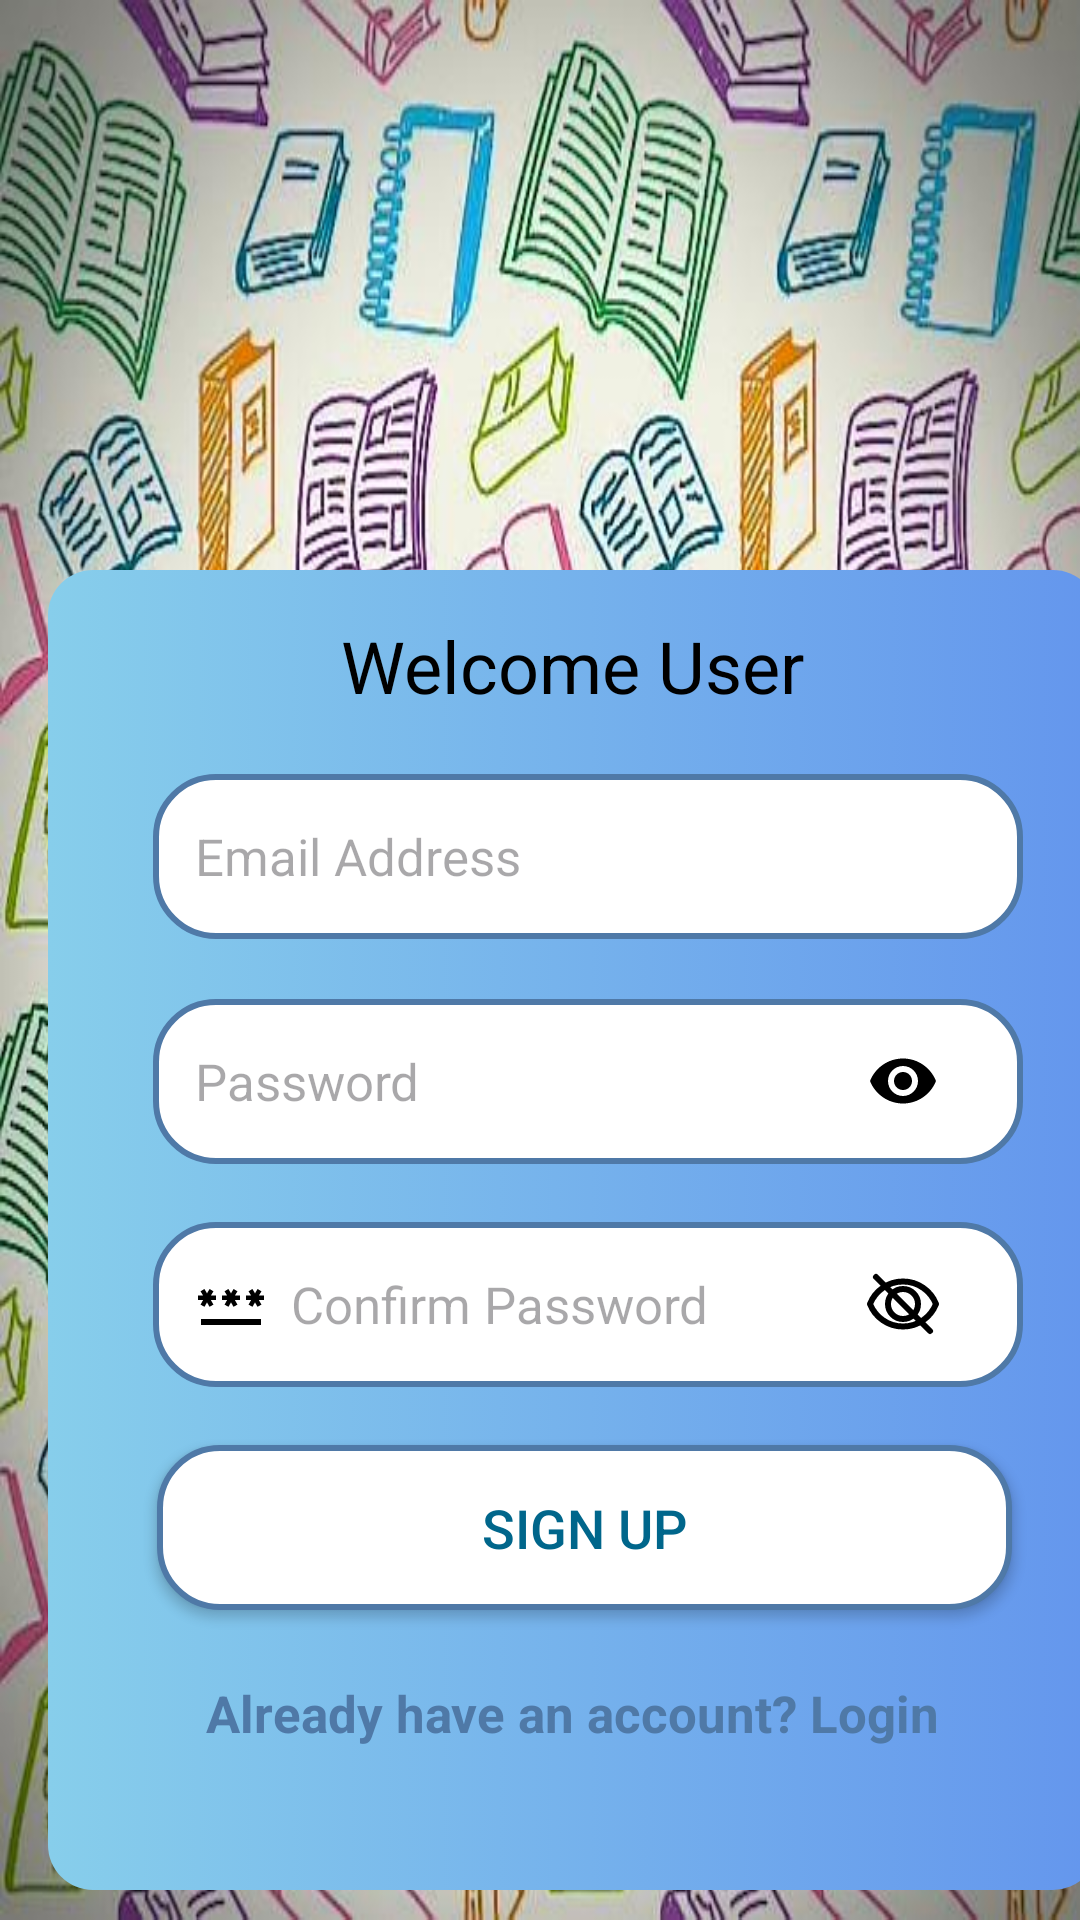

Where to tap for icons on this 1080×1920 app screen, as (x=x, y=y):
eye off: (x=903, y=1303)
eye on: (x=903, y=1081)
